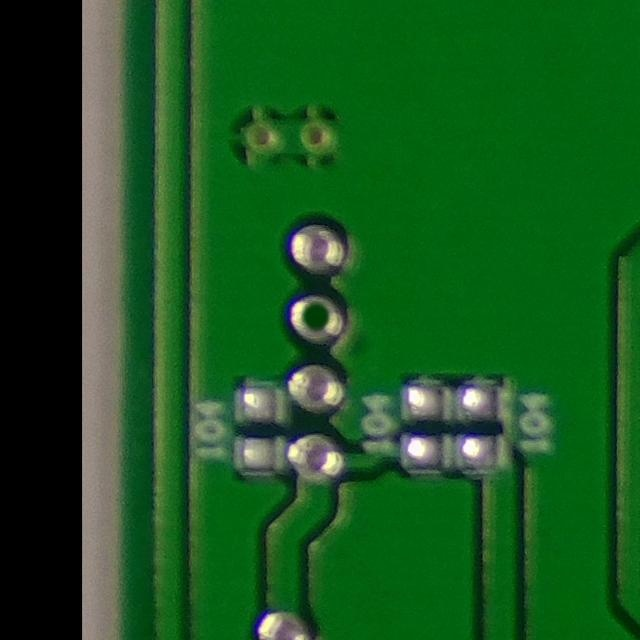missing_hole: (281, 287, 358, 353)
